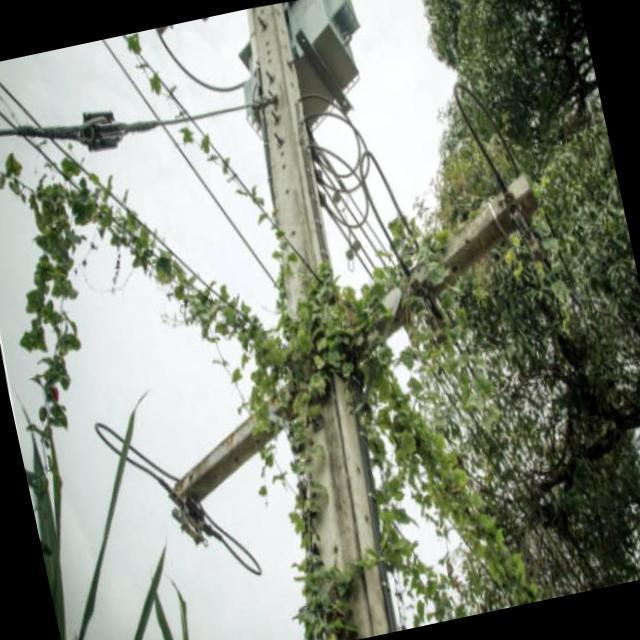light_pole: (226, 238, 398, 446), (266, 439, 381, 640)
